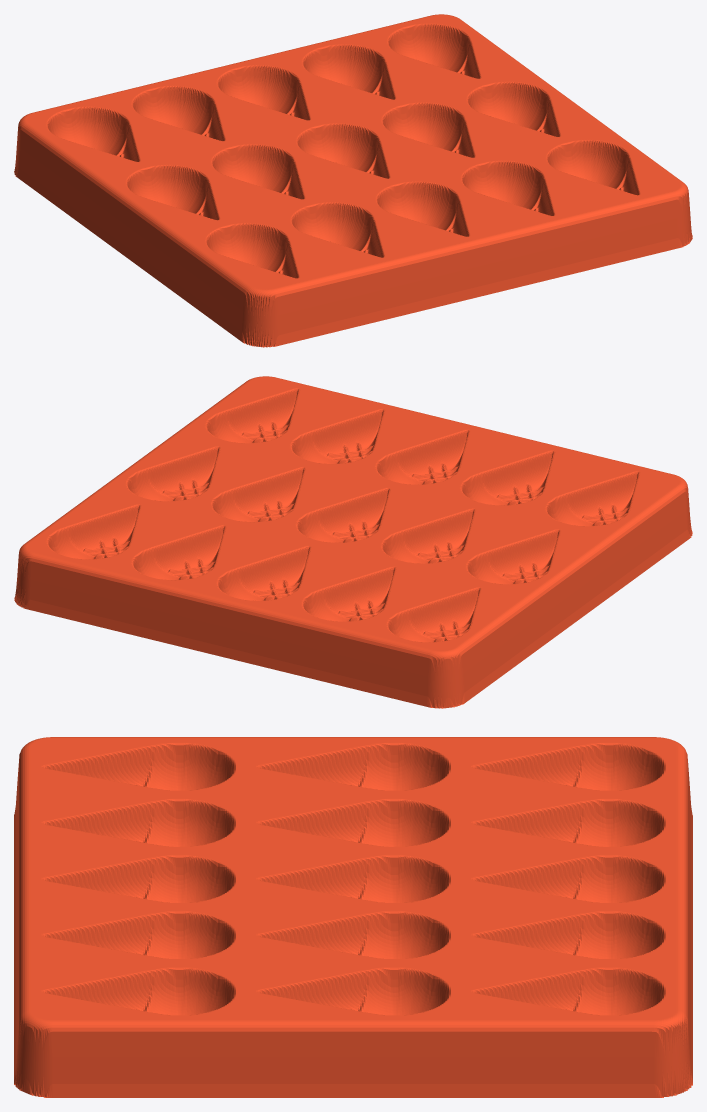
File: mold.glb
3 renders of one model, top to bottom at view 1: azimuth 30°, elevation 25°; view 2: azimuth 150°, elevation 25°; view 3: azimuth 270°, elevation 25°, orthographic. The views are drawn at different scales.
Parts seen in each view (by area): view 1: geometry_0; view 2: geometry_0; view 3: geometry_0.
Boxes of the visible parts, x1,y1,x2,y2 form: geometry_0: (14,14,692,347); geometry_0: (14,376,692,708); geometry_0: (14,737,692,1097).
Bounding box in the file's own units: 0.1649 × 0.0185 × 0.1602.
